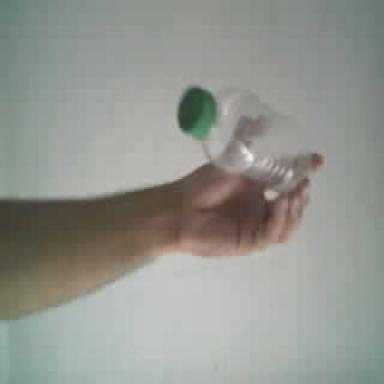bottle: (178, 86, 311, 189)
